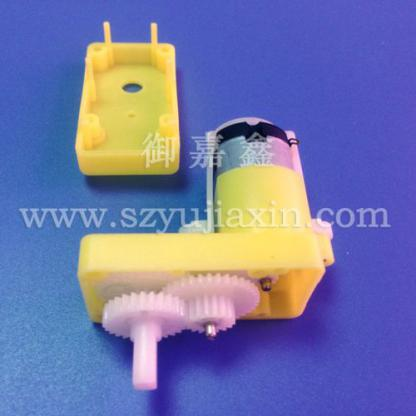FOD: (164, 272, 263, 342), (96, 292, 191, 346), (186, 294, 237, 334)
